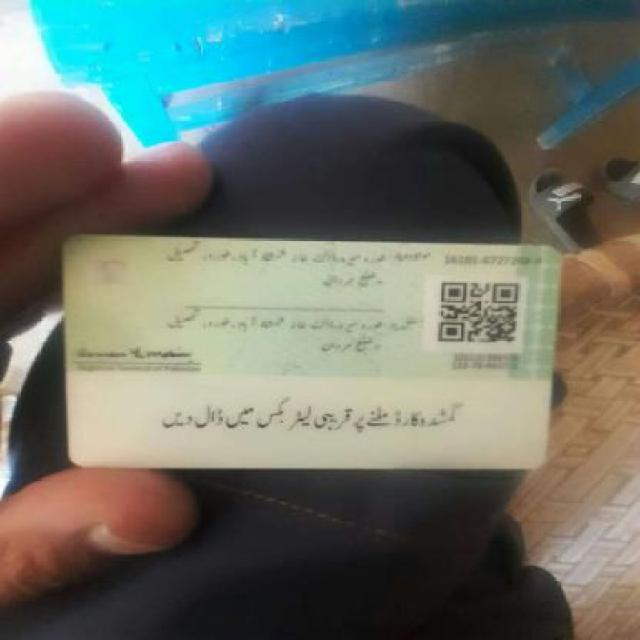Back: (54, 229, 568, 482)
